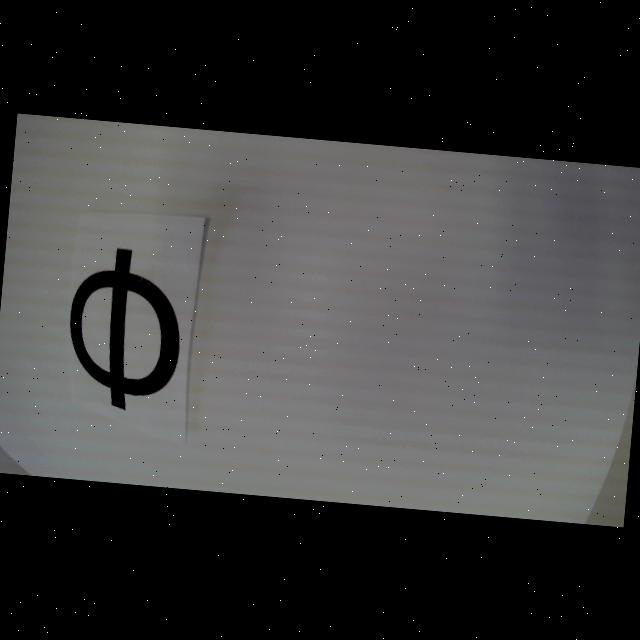PHI: (62, 243, 187, 413)
